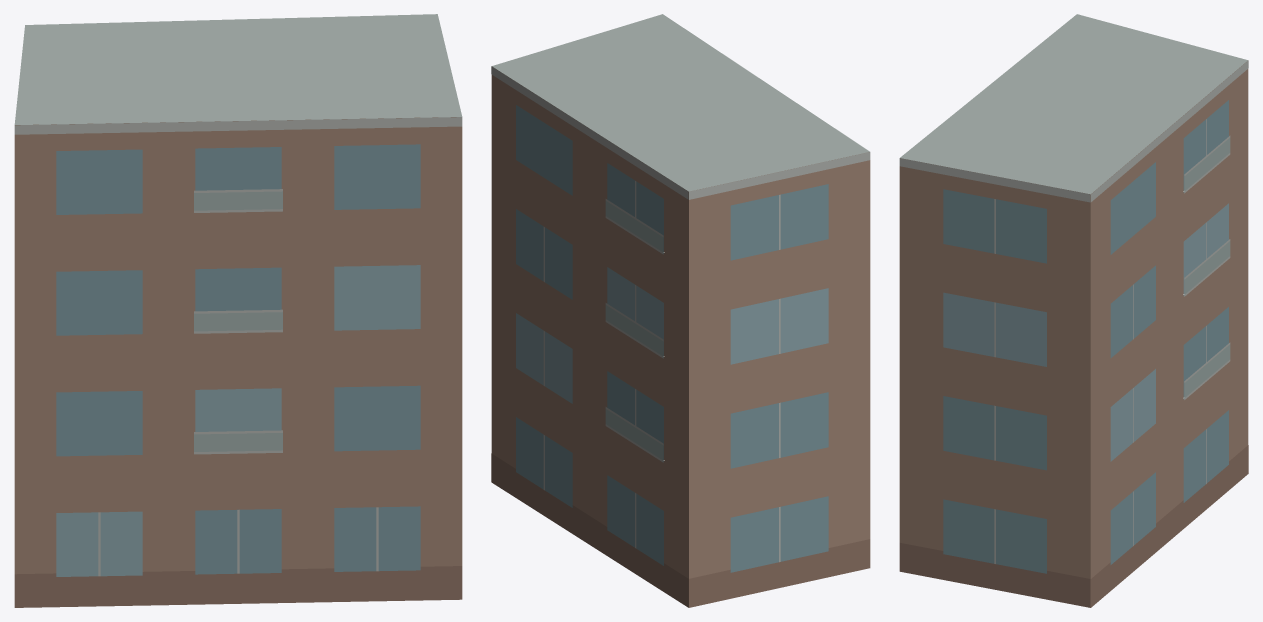
The model's file is survey-upis-32652278.glb.
3 renders of one model, left to right at view 1: azimuth 30°, elevation 25°; view 2: azimuth 150°, elevation 25°; view 3: azimuth 270°, elevation 25°, orthographic. The views are drawn at different scales.
Parts seen in each view (by area): view 1: survey-upis-32652278.tmp; view 2: survey-upis-32652278.tmp; view 3: survey-upis-32652278.tmp.
Boxes of the visible parts, box(x1,y1,x2,y2) form: survey-upis-32652278.tmp: box(14, 14, 462, 607); survey-upis-32652278.tmp: box(491, 14, 870, 607); survey-upis-32652278.tmp: box(899, 14, 1248, 607).
Size of the model in its own units: 11.41 by 12.2 by 9.33.
